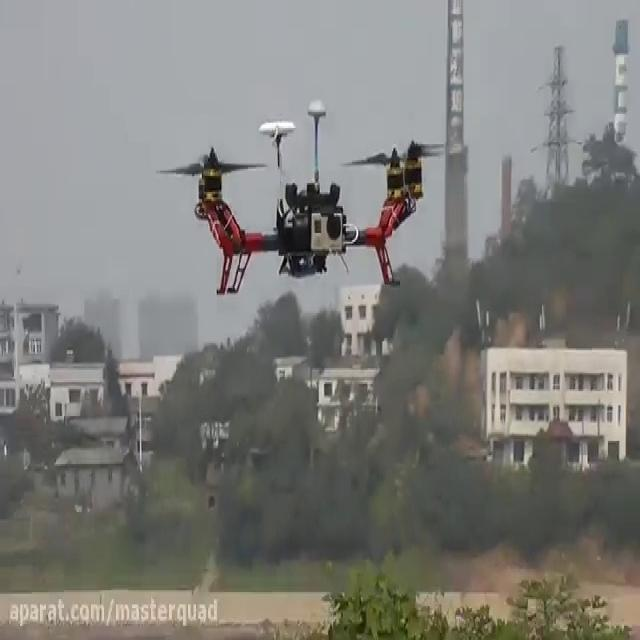drone: (152, 94, 444, 299)
